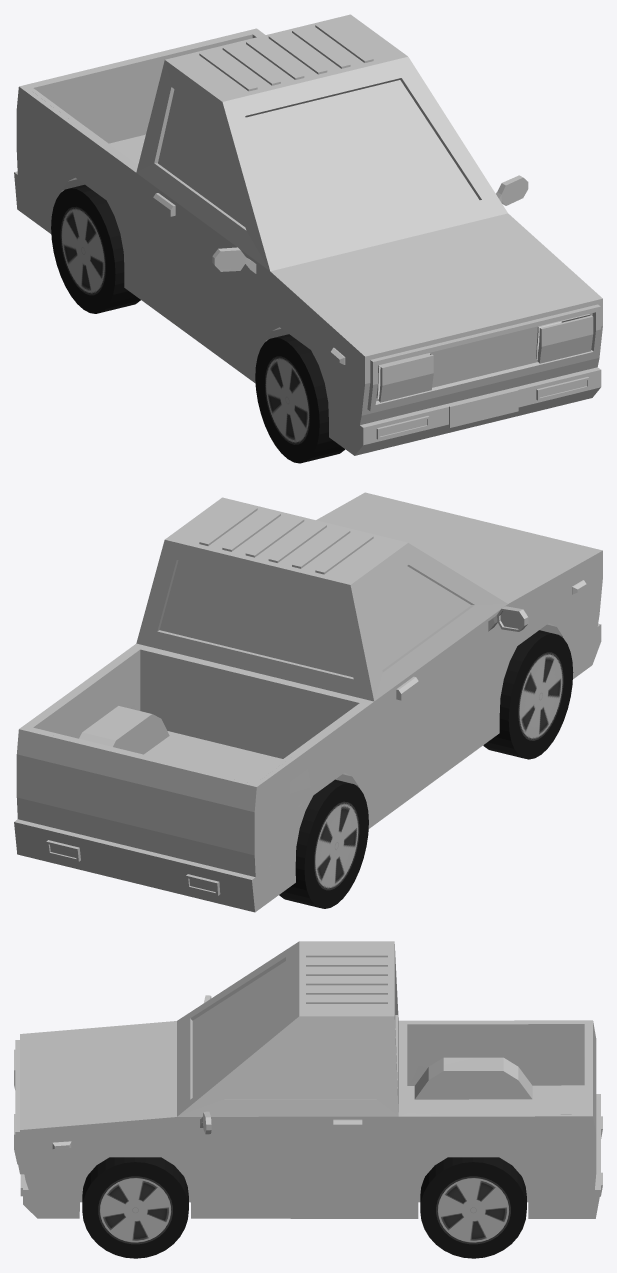
File: LowPolyTrollyCar.fbx
The picture shows the model from 3 angles, top to bottom: view 1: azimuth 30°, elevation 25°; view 2: azimuth 150°, elevation 25°; view 3: azimuth 270°, elevation 25°; orthographic projection. The views are drawn at different scales.
Parts seen in each view (by area): view 1: TrollyCar.Mesh, FrontWheel.Mesh.R, RearWheel.Mesh.R; view 2: TrollyCar.Mesh, FrontWheel.Mesh.R, RearWheel.Mesh.R; view 3: TrollyCar.Mesh, FrontWheel.Mesh.L, RearWheel.Mesh.L.
Part boxes in pixels (x1,y1,x2,y2): TrollyCar.Mesh: (14, 14, 602, 455); FrontWheel.Mesh.R: (255, 334, 345, 463); RearWheel.Mesh.R: (51, 184, 140, 313); TrollyCar.Mesh: (14, 492, 602, 912); FrontWheel.Mesh.R: (483, 630, 573, 759); RearWheel.Mesh.R: (279, 779, 368, 908); TrollyCar.Mesh: (14, 941, 602, 1218); FrontWheel.Mesh.L: (82, 1157, 188, 1258); RearWheel.Mesh.L: (420, 1157, 526, 1258).
Size of the model in its own units: 0.8441 by 0.7157 by 1.66.
